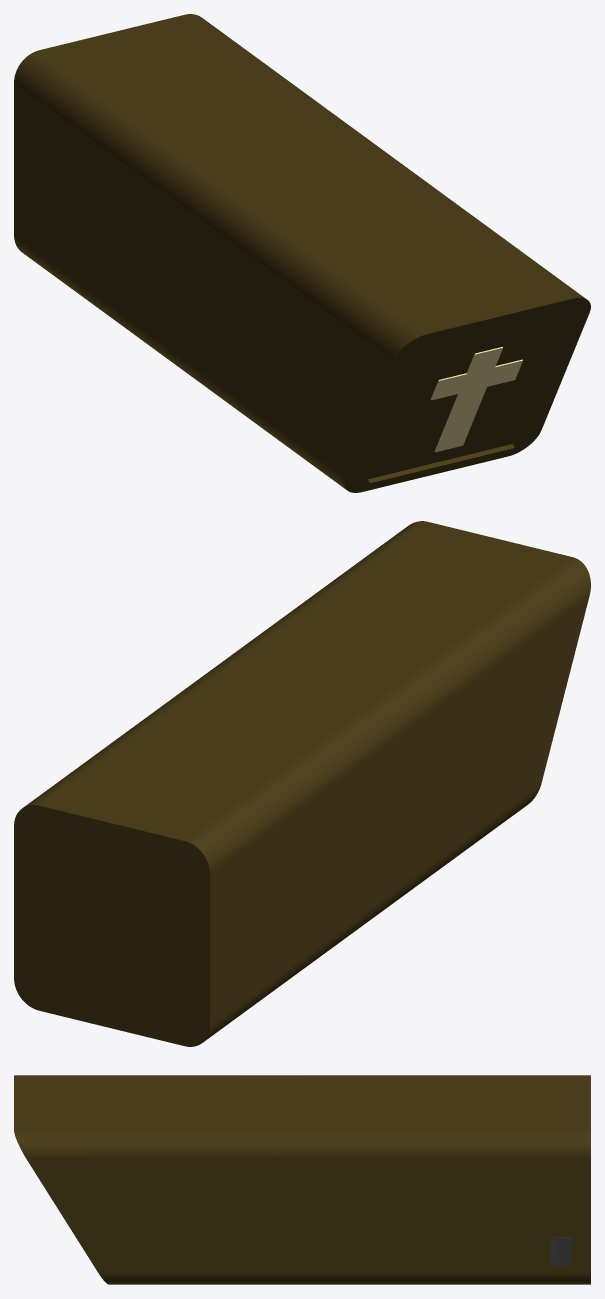
The picture shows the model from 3 angles, top to bottom: view 1: azimuth 30°, elevation 25°; view 2: azimuth 150°, elevation 25°; view 3: azimuth 270°, elevation 25°; orthographic projection. The views are drawn at different scales.
Visible parts, largest first — view 1: Corpo2, Corpo7; view 2: Corpo2; view 3: Corpo2, Corpo8.
Boxes of the visible parts, x1,y1,x2,y2 form: Corpo2: (14,14,590,492); Corpo7: (430,347,522,452); Corpo2: (14,521,590,1046); Corpo2: (14,1075,590,1284); Corpo8: (550,1237,571,1265).
Size of the model in its own units: 353 by 380 by 1200.
